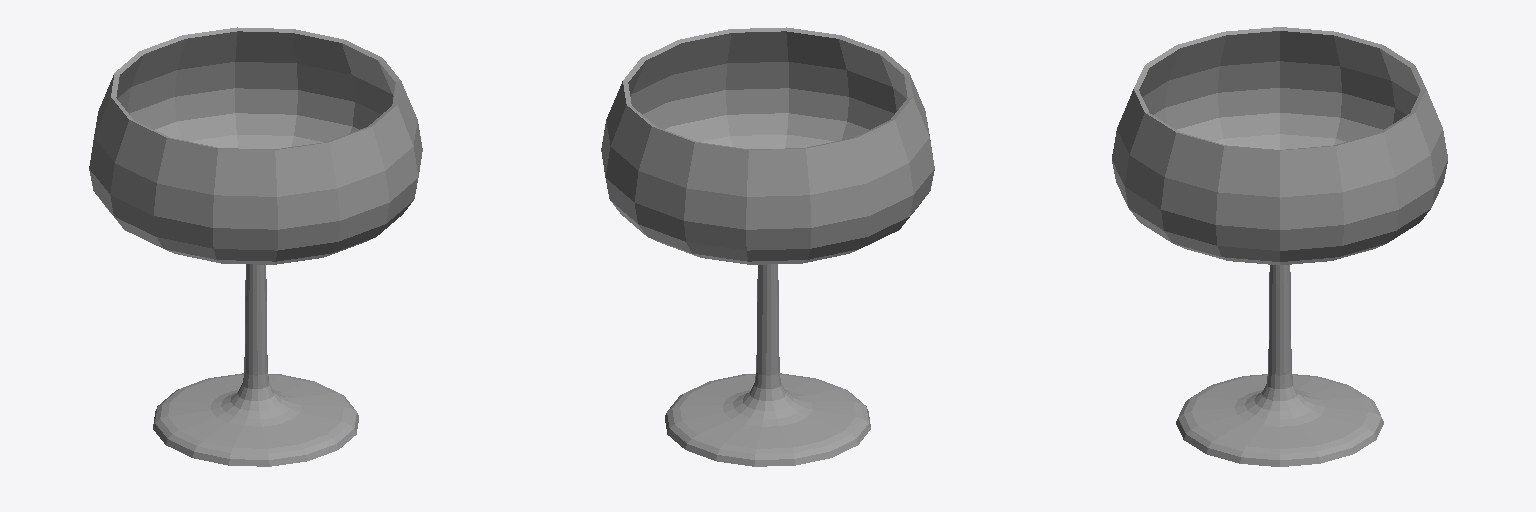
The model's file is chalice.obj.
3 renders of one model, left to right at view 1: azimuth 30°, elevation 25°; view 2: azimuth 150°, elevation 25°; view 3: azimuth 270°, elevation 25°, orthographic.
Parts seen in each view (by area): view 1: BezierCurve_CUBezierCurve.002; view 2: BezierCurve_CUBezierCurve.002; view 3: BezierCurve_CUBezierCurve.002.
Boxes of the visible parts, box(x1,y1,x2,y2) form: BezierCurve_CUBezierCurve.002: box(89, 27, 422, 466); BezierCurve_CUBezierCurve.002: box(601, 27, 934, 466); BezierCurve_CUBezierCurve.002: box(1112, 27, 1447, 466).
Size of the model in its own units: 2.25 by 2.47 by 2.25.